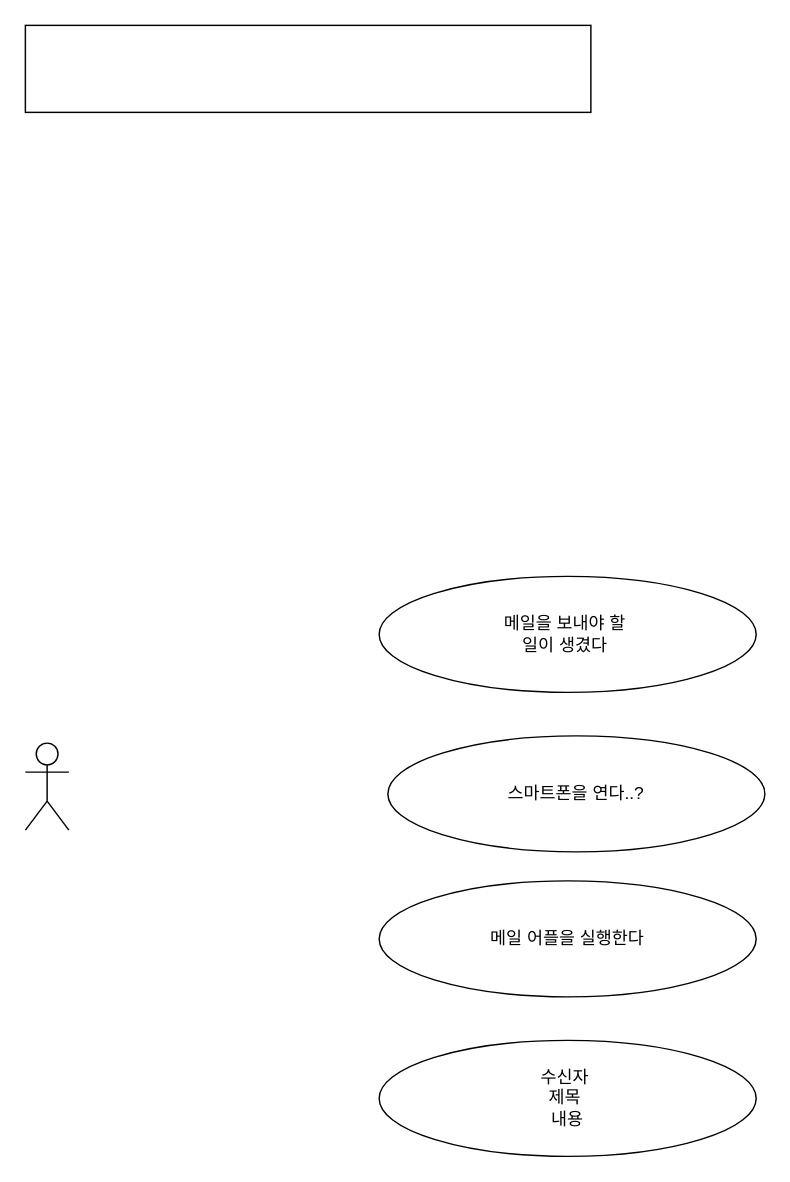
Some shapes in this 790 by 1182 pixel diagram are drawn without their labels. The centre of each missing label's shape, as x and y in pixels:
"Actor" goes at (46,786).
"어플리케이션 분석 메일 어플은 툴일 뿐인다 / 액터가 중요 / 인과관계 / 구조화 주제 : 메일 어플을 사용하여 메일을 보낸다" goes at (307,68).
